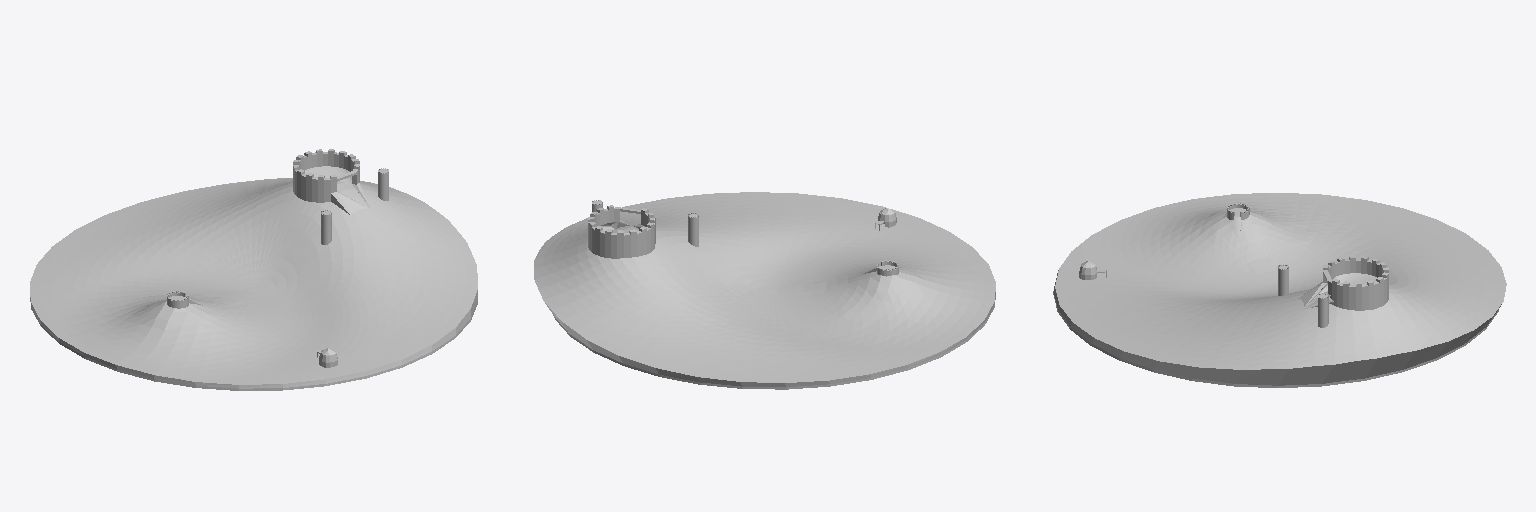
File: Siege.obj
3 renders of one model, left to right at view 1: azimuth 30°, elevation 25°; view 2: azimuth 150°, elevation 25°; view 3: azimuth 270°, elevation 25°, orthographic.
Parts seen in each view (by area): view 1: Cylinder_Material.002, Cylinder.001_Material.003, Cylinder_Material.001; view 2: Cylinder_Material.002, Cylinder.001_Material.003, Cylinder_Material.001; view 3: Cylinder_Material.002, Cylinder.001_Material.003, Cylinder_Material.001.
Boxes of the visible parts, x1,y1,x2,y2 form: Cylinder_Material.002: [30, 178, 477, 388]; Cylinder.001_Material.003: [293, 149, 369, 215]; Cylinder_Material.001: [30, 299, 477, 390]; Cylinder_Material.002: [534, 192, 995, 386]; Cylinder.001_Material.003: [588, 205, 655, 258]; Cylinder_Material.001: [553, 296, 995, 389]; Cylinder_Material.002: [1054, 193, 1506, 385]; Cylinder.001_Material.003: [1298, 256, 1388, 310]; Cylinder_Material.001: [1053, 291, 1498, 387].
Size of the model in its own units: 406 by 76.24 by 404.